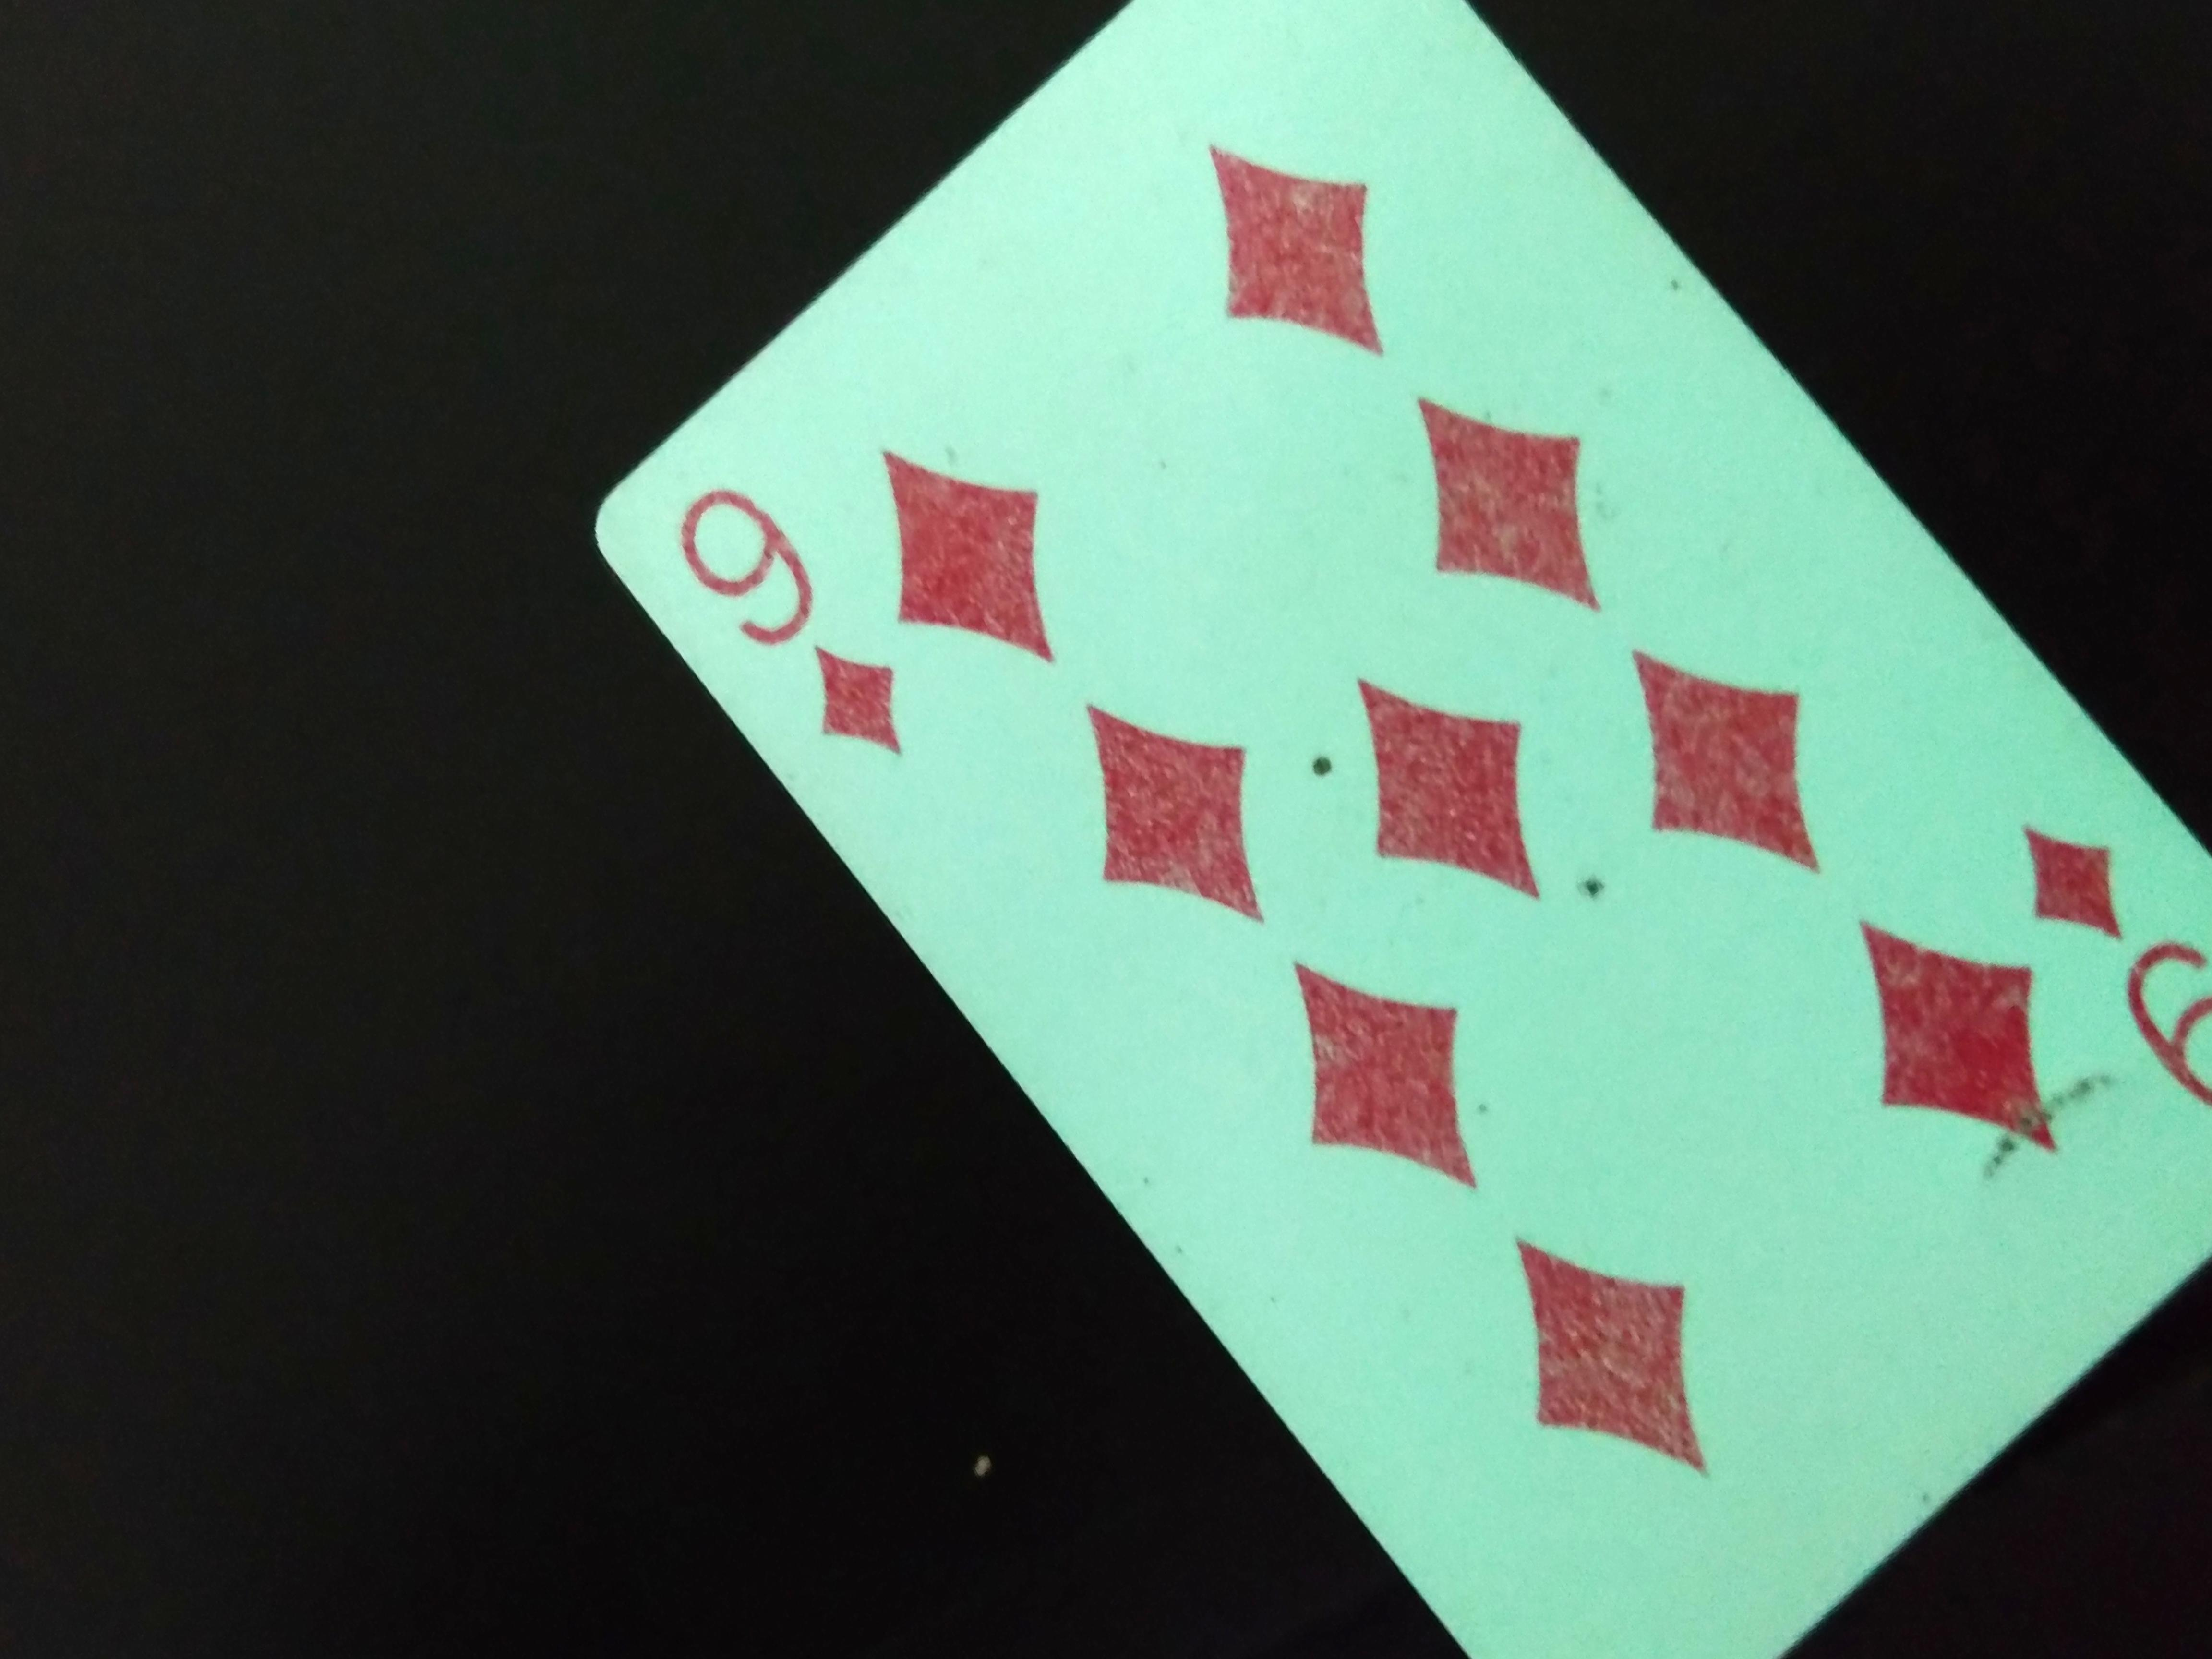9D: (667, 477, 960, 772)
